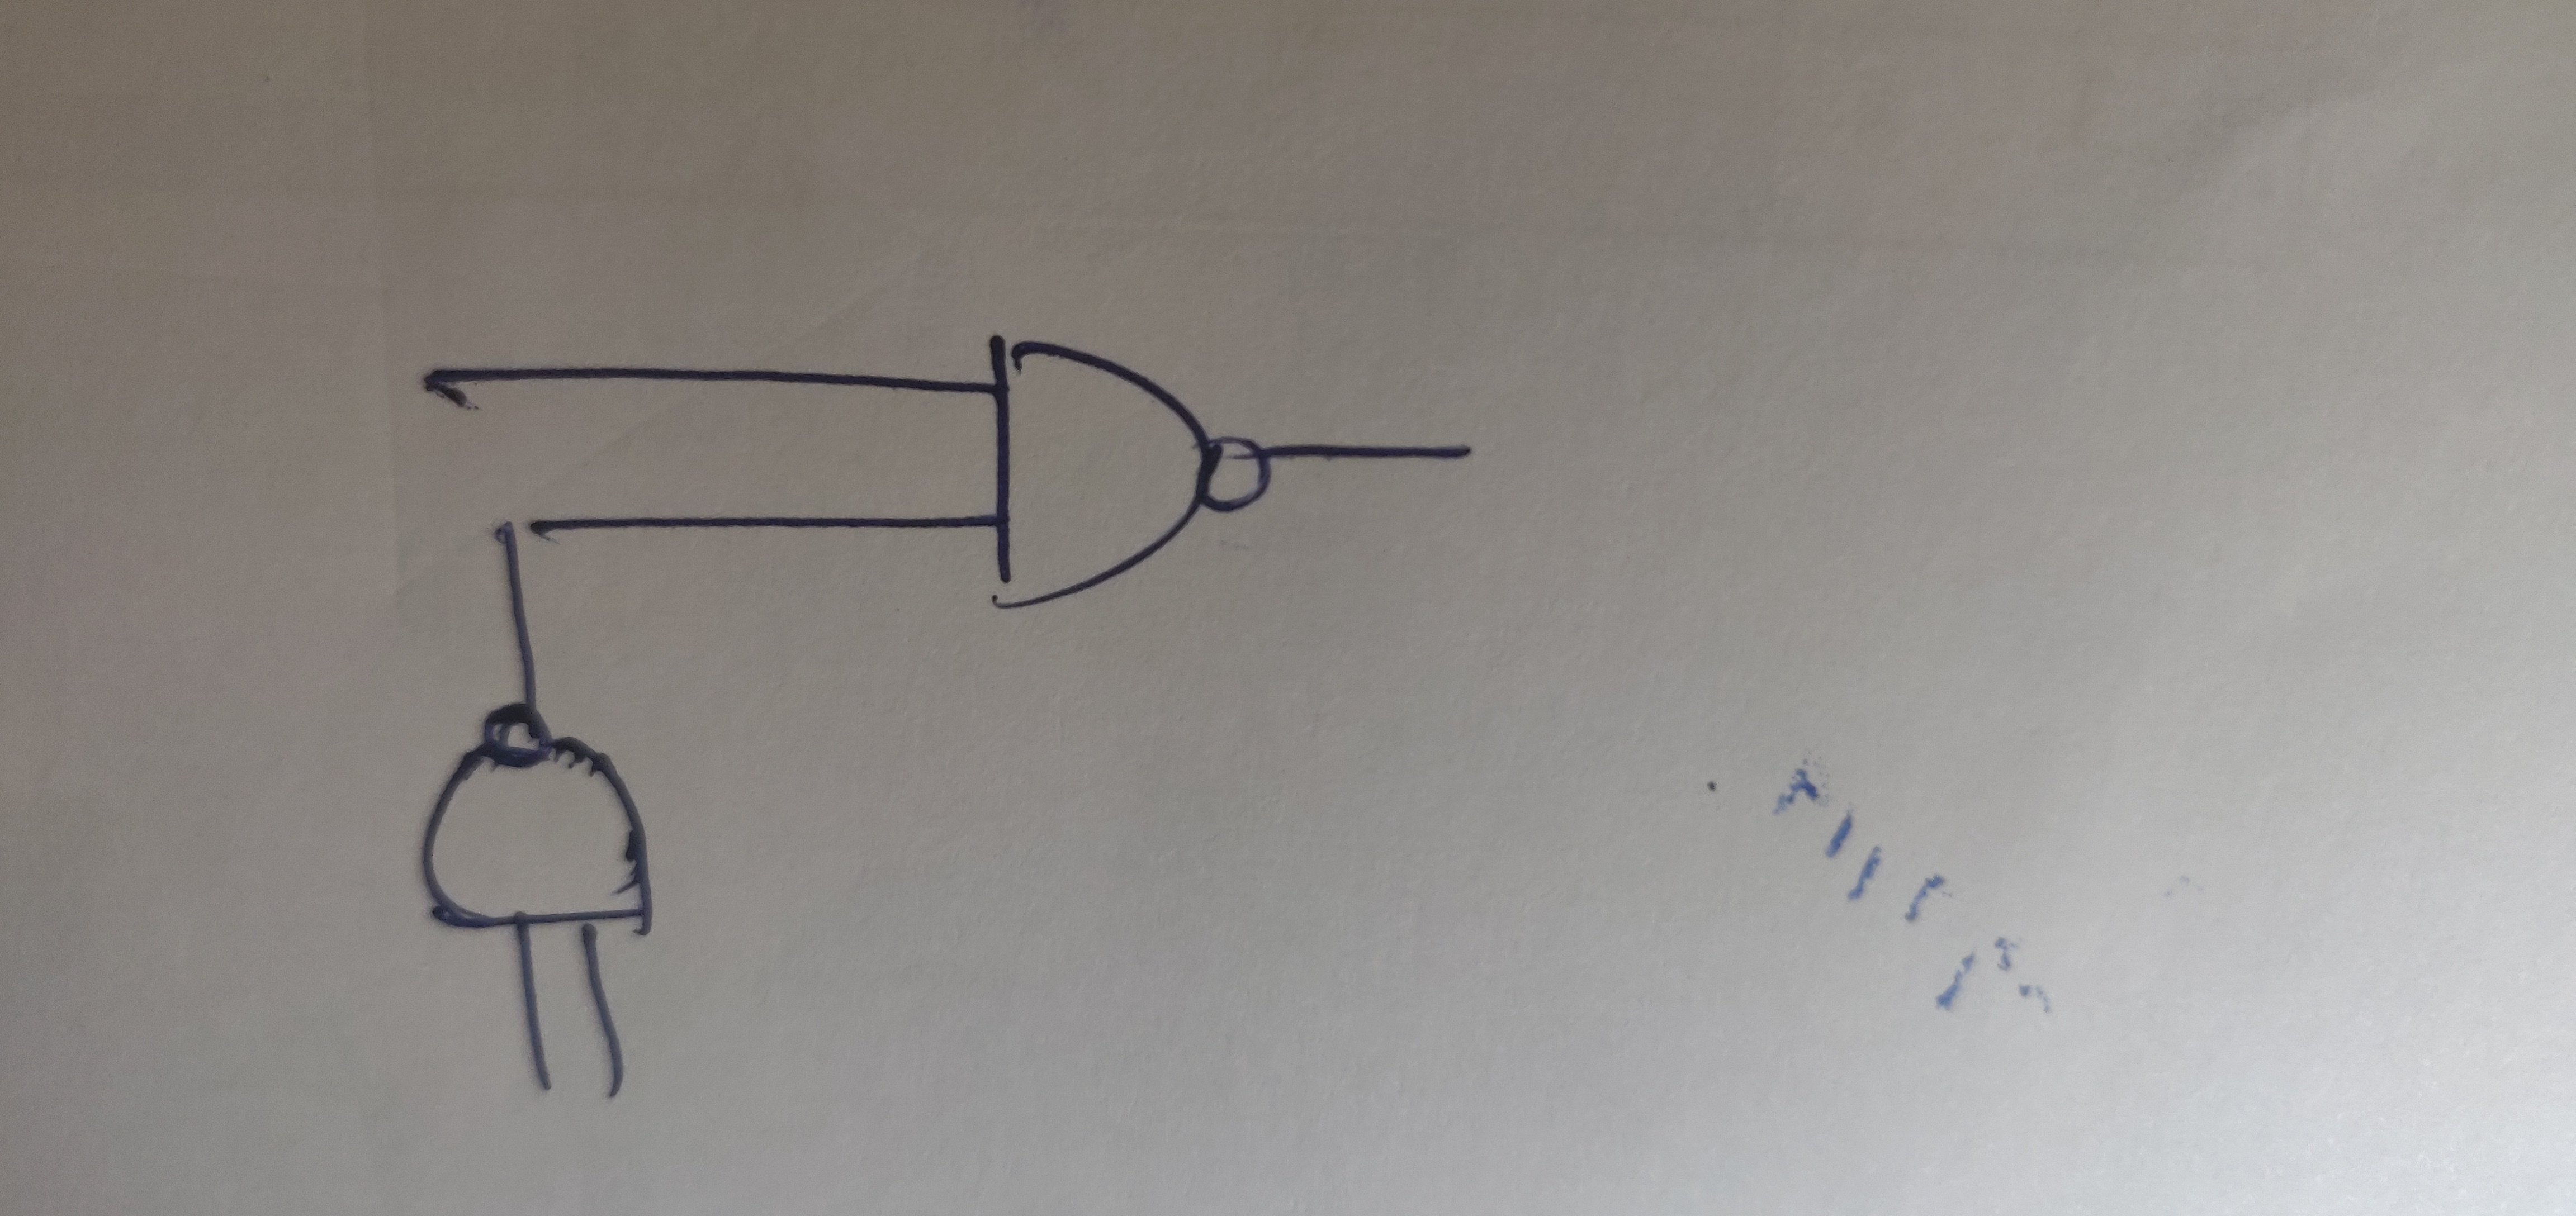nand: (366, 624, 795, 1006), (936, 279, 1314, 677)
